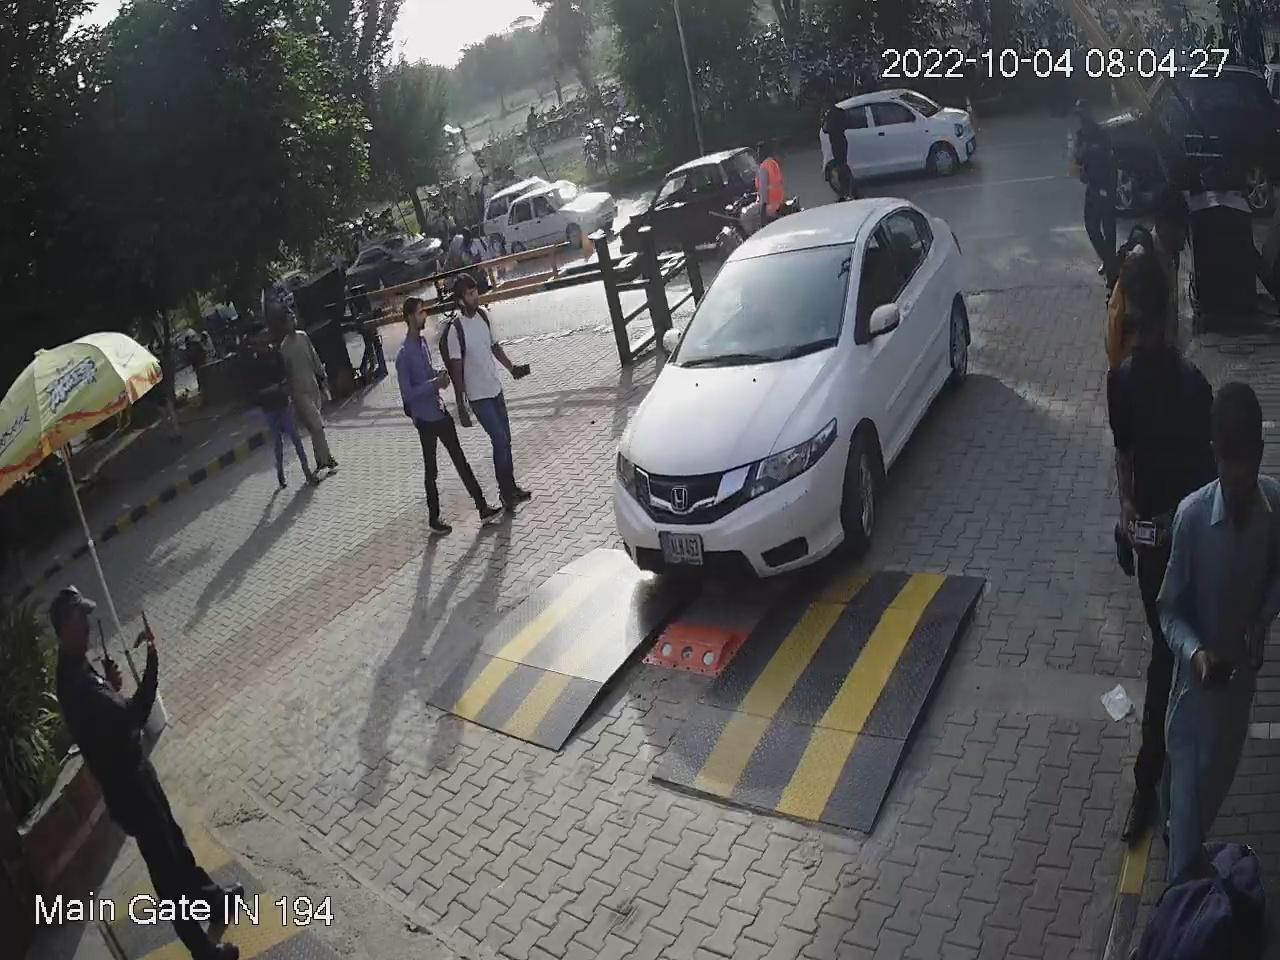windshield: (668, 228, 863, 367)
